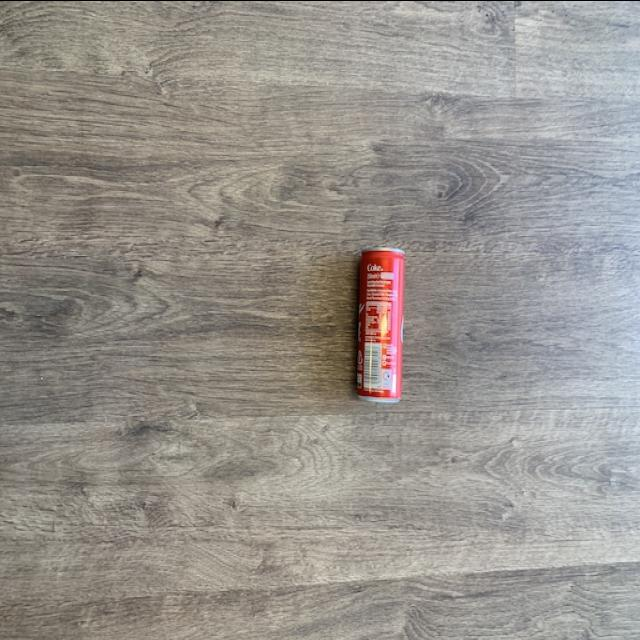Aluminum Can: (354, 245, 408, 401)
